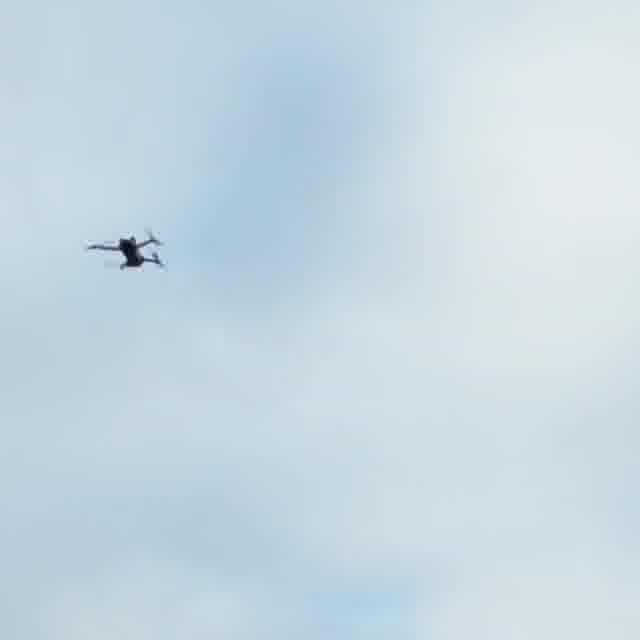Drohne: (87, 231, 163, 269)
